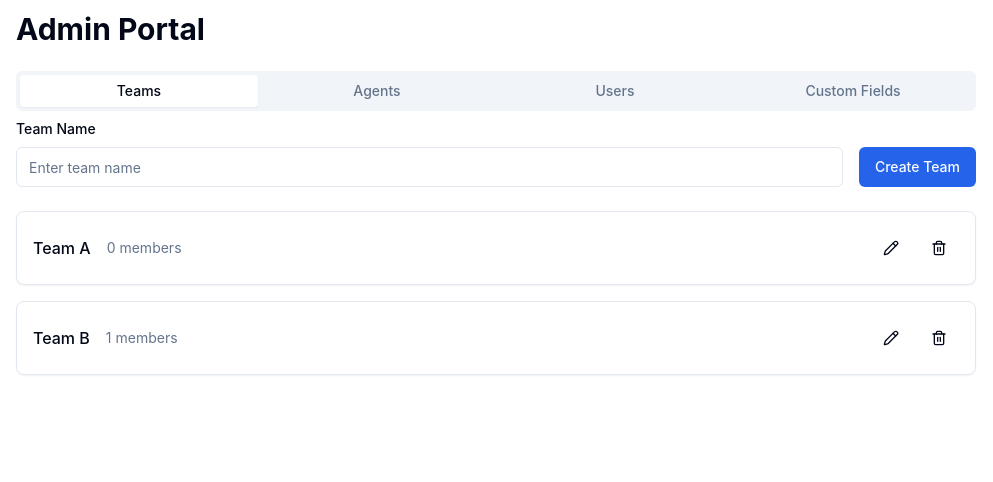
Test case: AdminPortal › allows creating a new team
Type "New Team" into the field with placeholder "Enter team name".
click(429, 167); type("New Team")  # box [16,147,843,187]
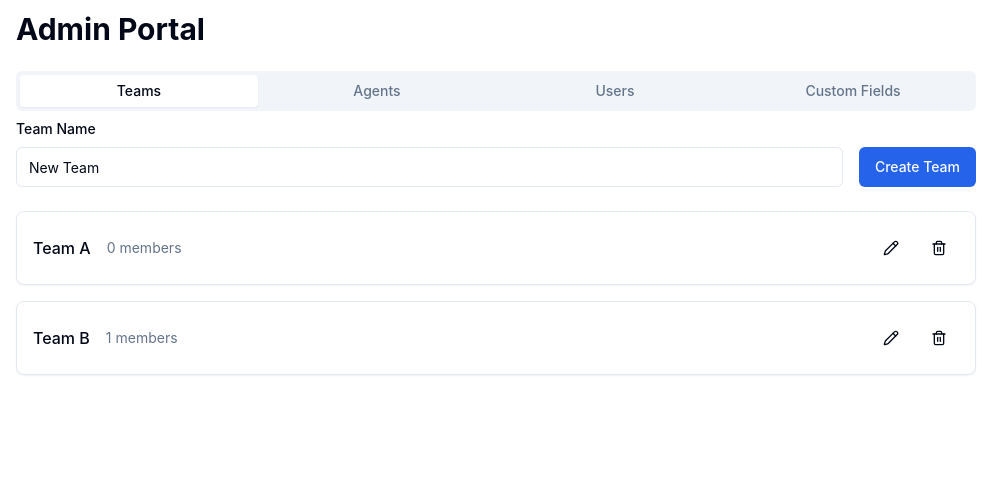
Click the button "Create Team".
click(917, 167)  # box [859,147,976,187]
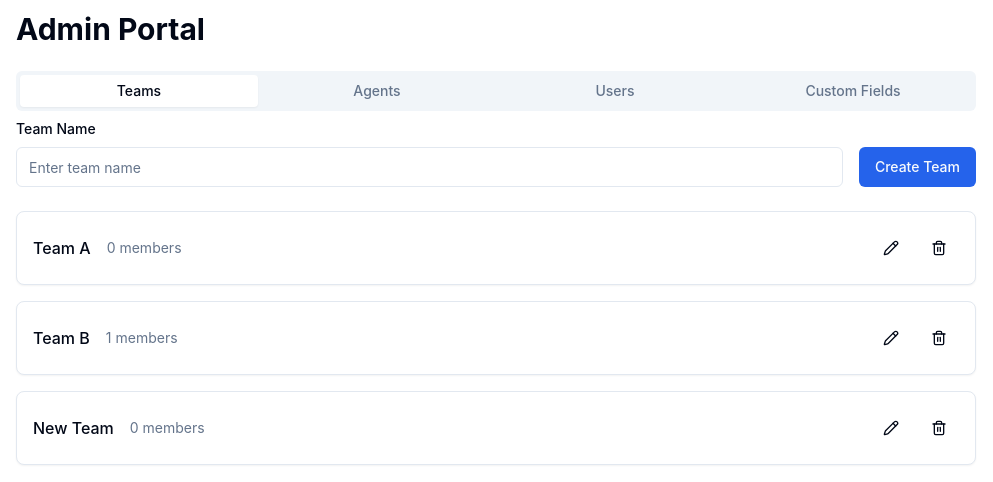
Result: the heading "New Team" is shown at [33,416,114,440]
